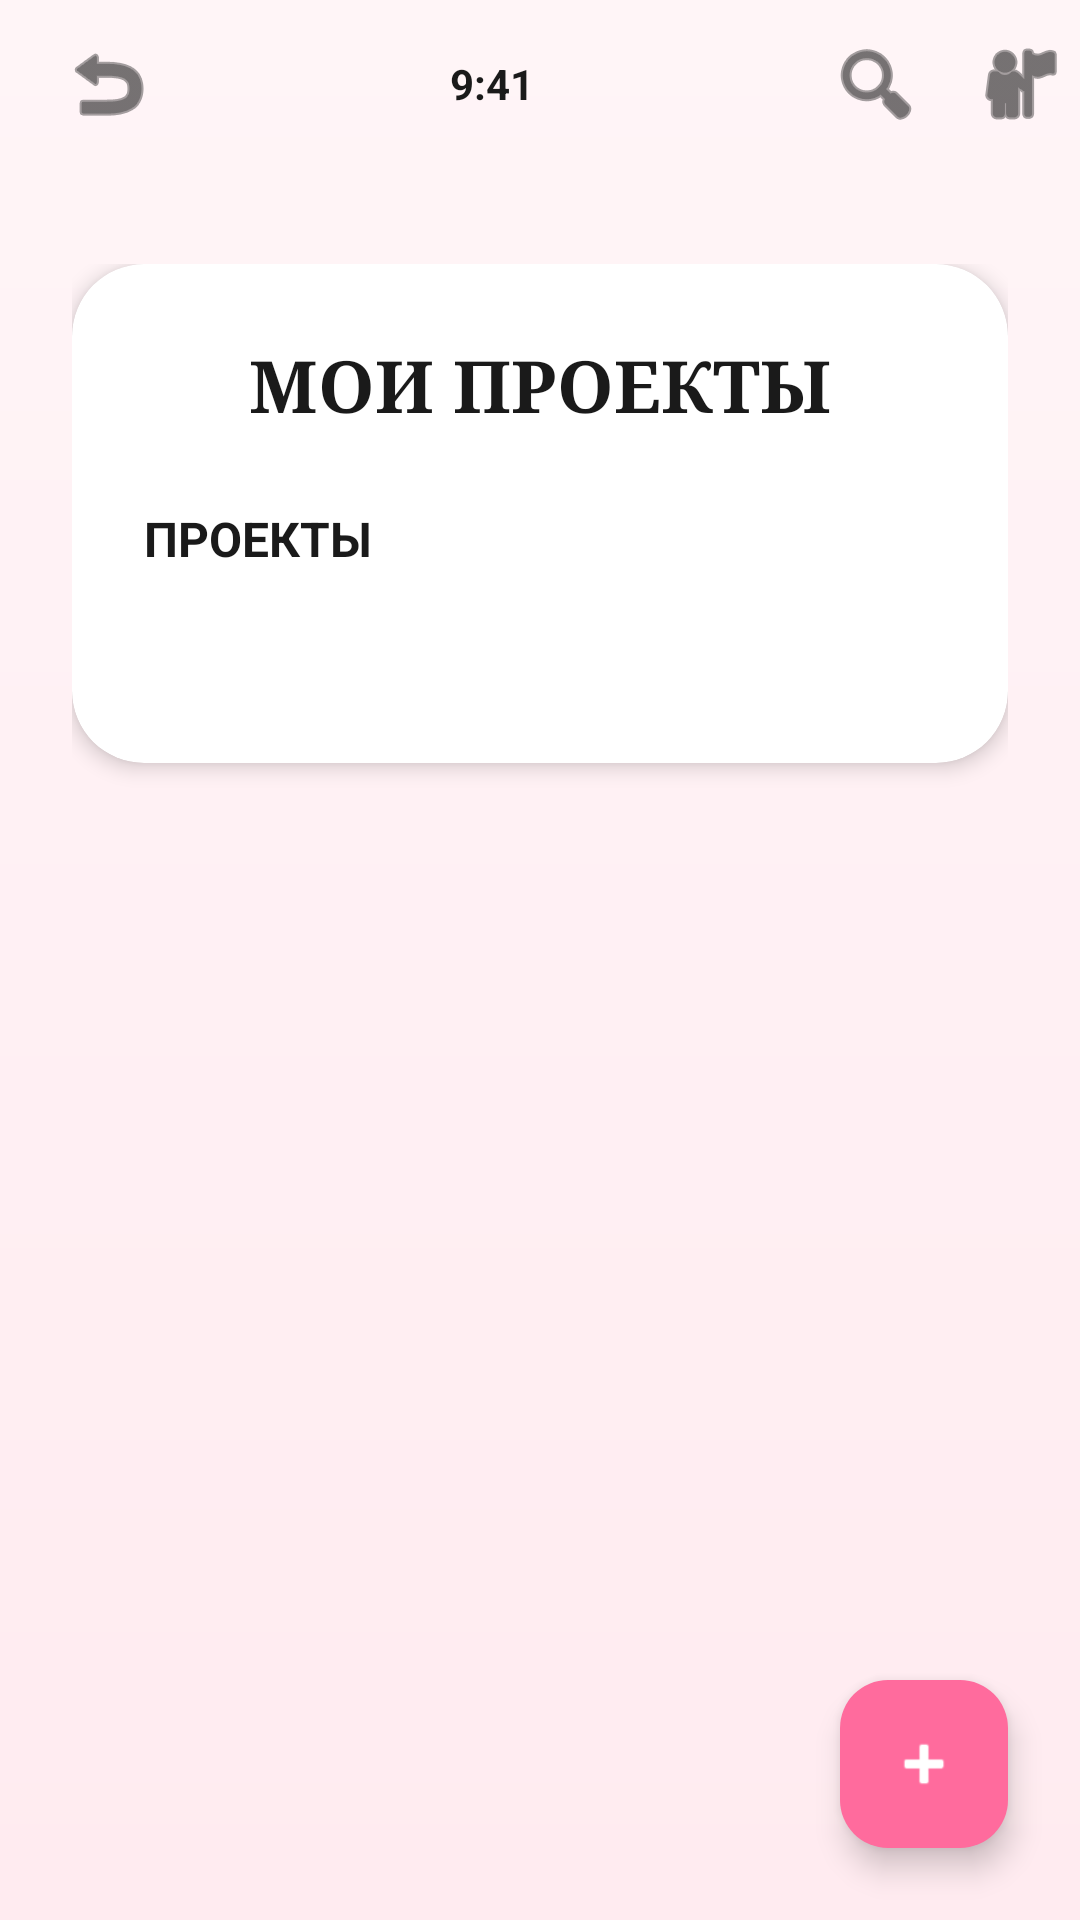

Icon click points for this 1080x1920 phone screenshot, format (x,y):
myplaces: (1021,84)
revert: (109,84)
Создать проект: (924,1764)
